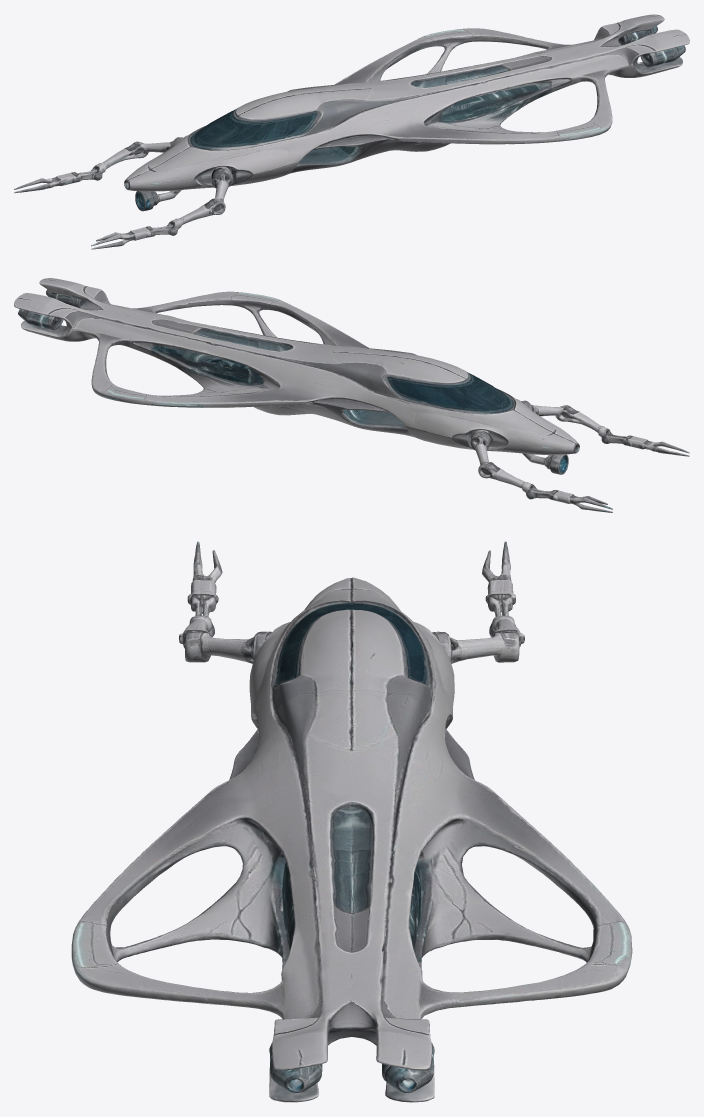
File: frankenstein.glb
3 views of the same model, one above another, from view 1: azimuth 30°, elevation 25°; view 2: azimuth 150°, elevation 25°; view 3: azimuth 270°, elevation 25° (orthographic). The views are drawn at different scales.
Bounding box in the file's own units: 1.9 × 0.2295 × 0.7423.
Materials: 1 (1 with a texture image).
